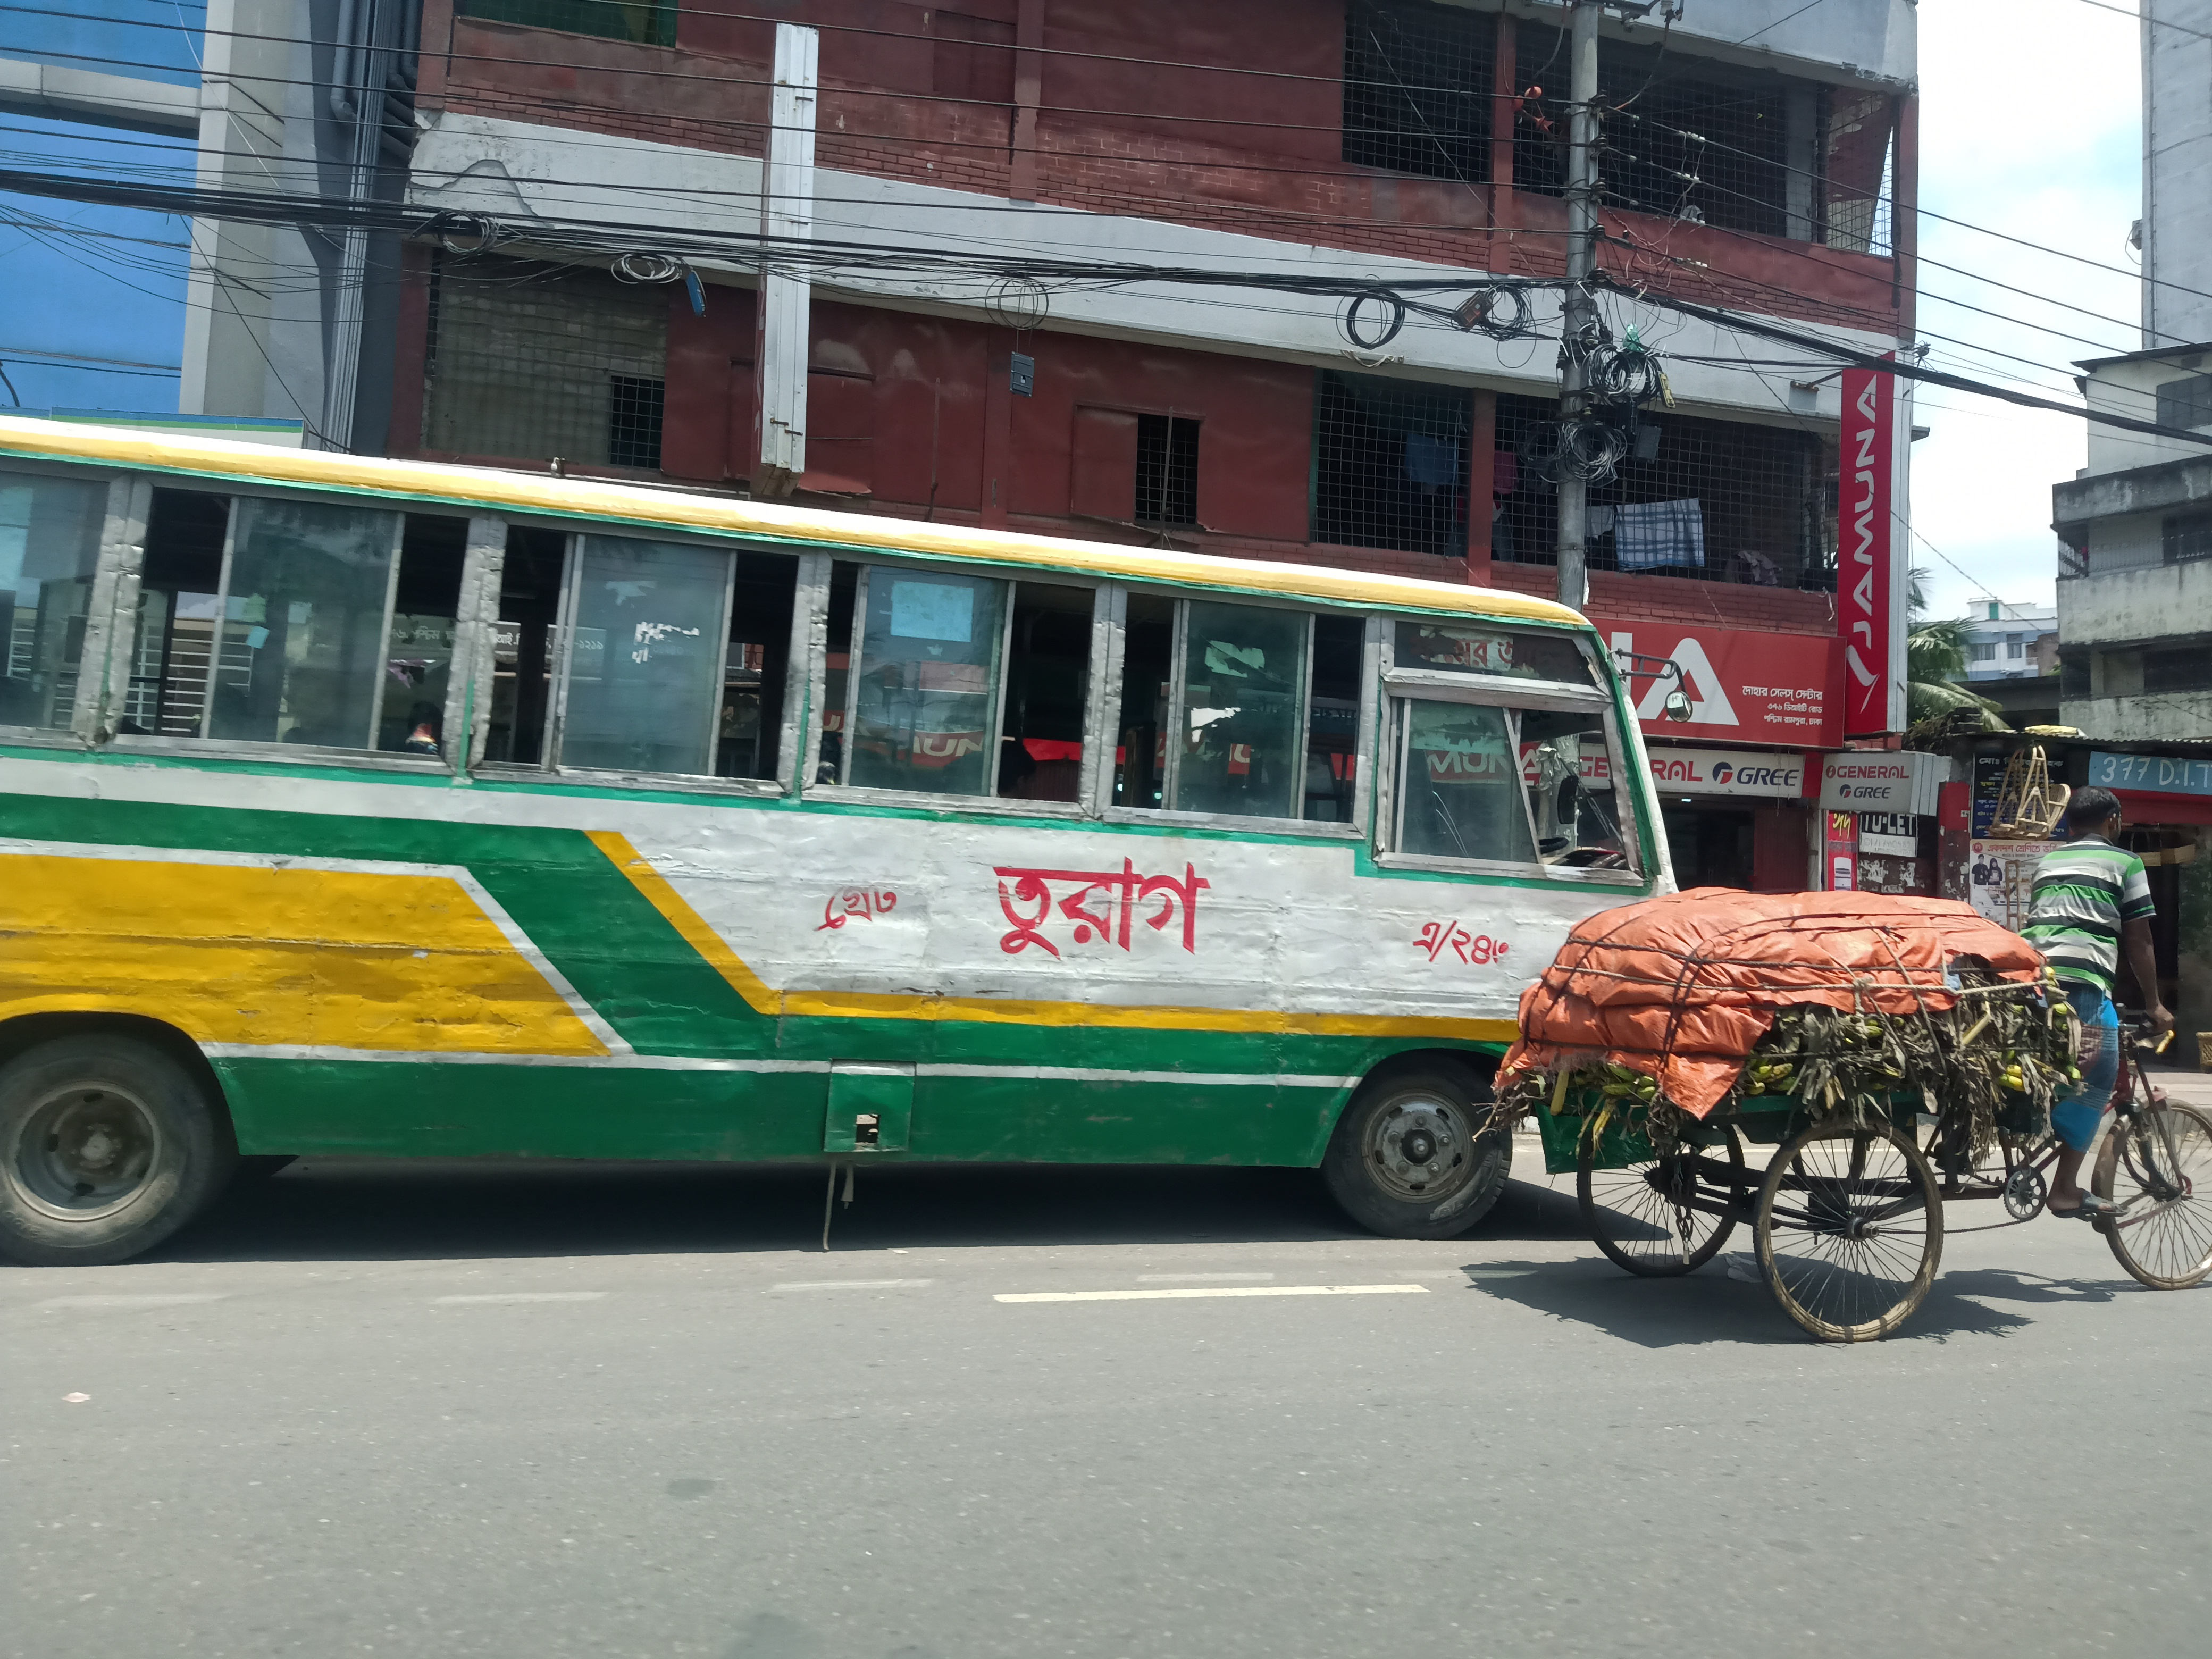bus: (5, 416, 1703, 1253)
van: (1519, 958, 2210, 1354)
